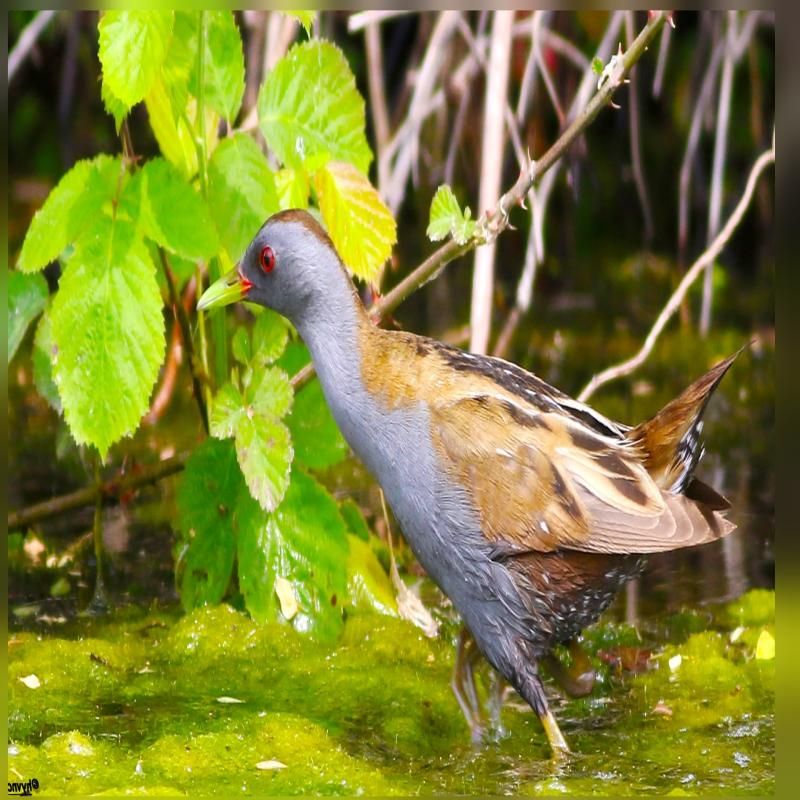little crake: (191, 207, 766, 700)
